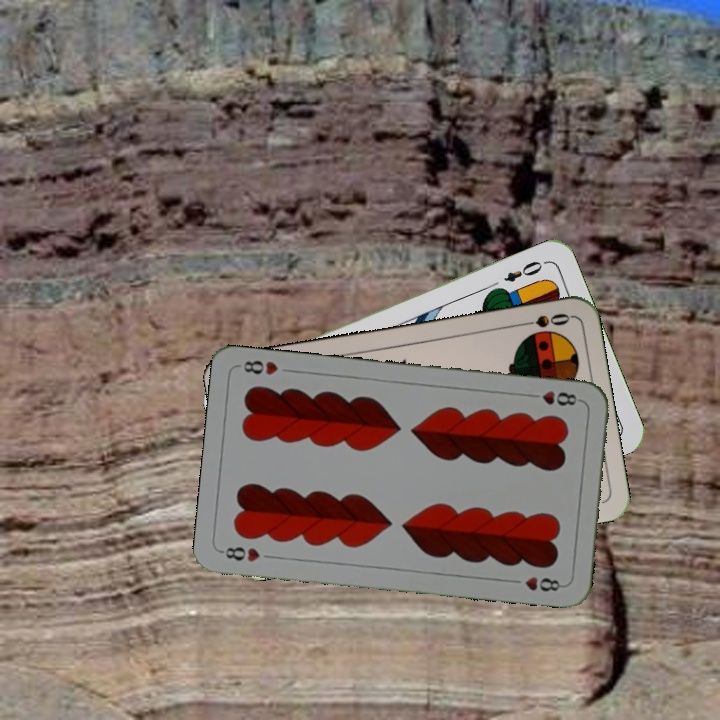EO: (499, 257, 545, 285)
H8: (525, 387, 584, 409), (218, 542, 263, 565)
SO: (514, 309, 573, 330)
